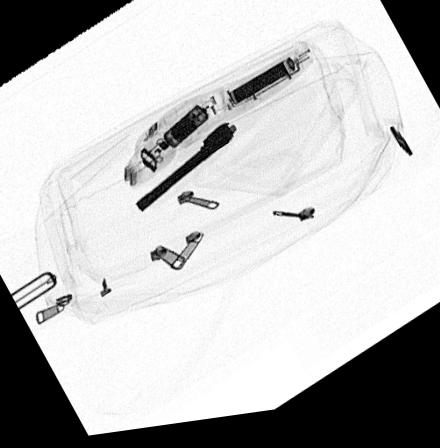Gun: (131, 126, 236, 217)
